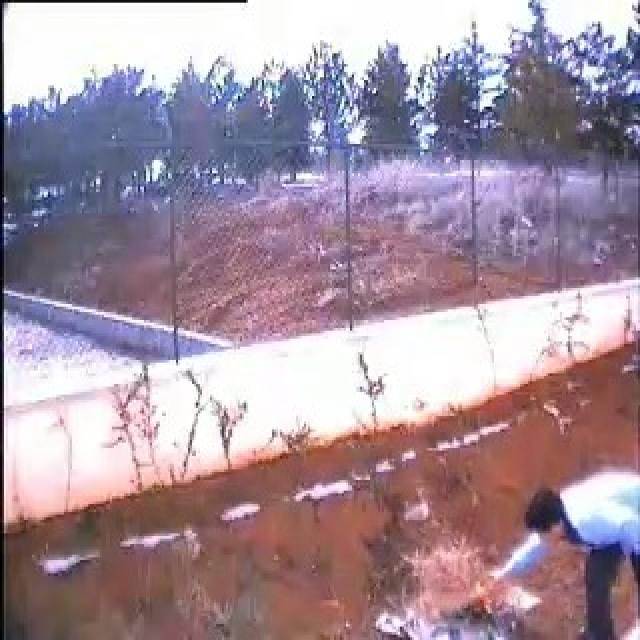fire: (412, 538, 489, 613)
